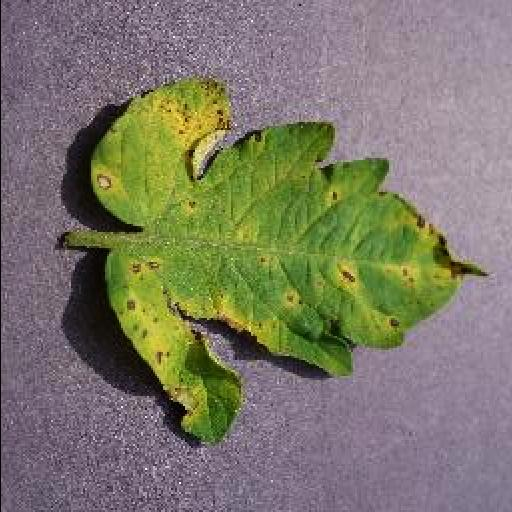disease_tomato: (88, 78, 486, 450)
